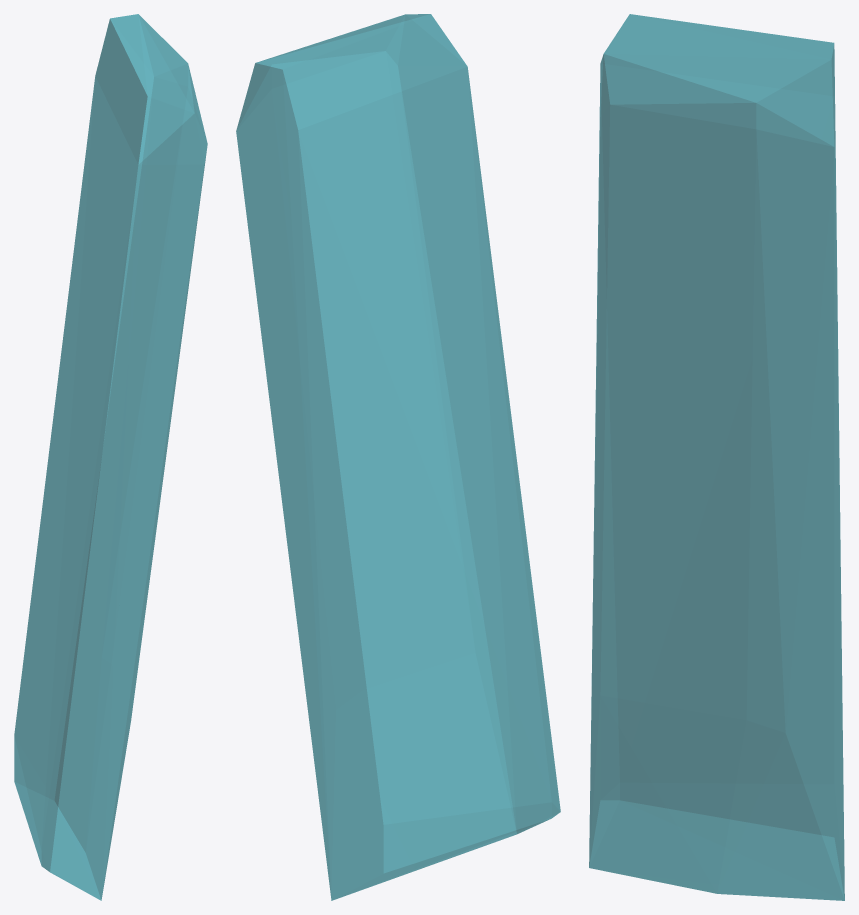
The picture shows the model from 3 angles, left to right: view 1: azimuth 30°, elevation 25°; view 2: azimuth 150°, elevation 25°; view 3: azimuth 270°, elevation 25°; orthographic projection. The views are drawn at different scales.
Parts seen in each view (by area): view 1: Shape_IndexedFaceSet.031_Shape_IndexedFaceSet.6438; view 2: Shape_IndexedFaceSet.031_Shape_IndexedFaceSet.6438; view 3: Shape_IndexedFaceSet.031_Shape_IndexedFaceSet.6438.
Part boxes in pixels (x1,y1,x2,y2): Shape_IndexedFaceSet.031_Shape_IndexedFaceSet.6438: (14, 14, 207, 900); Shape_IndexedFaceSet.031_Shape_IndexedFaceSet.6438: (236, 14, 560, 900); Shape_IndexedFaceSet.031_Shape_IndexedFaceSet.6438: (589, 14, 844, 900).
Bounding box in the file's own units: 0.1783 × 0.6438 × 0.1671.
